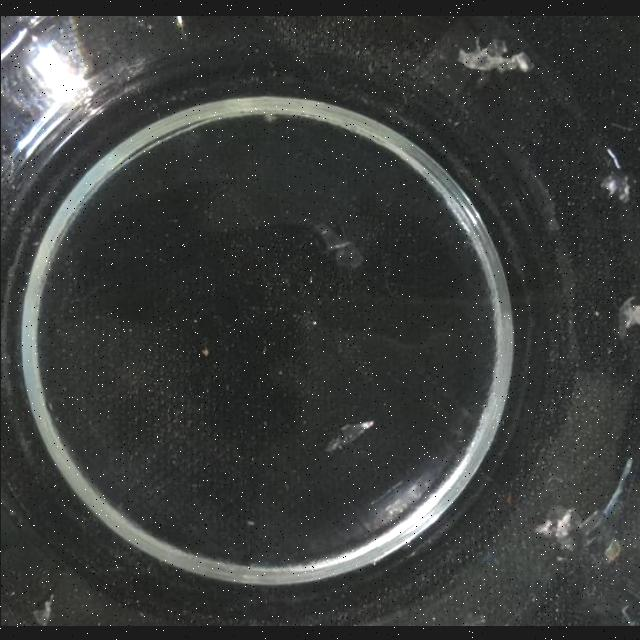Fibre: (456, 36, 530, 74), (310, 220, 362, 268), (532, 505, 580, 553), (599, 169, 631, 203), (616, 296, 640, 334), (31, 592, 53, 624), (458, 612, 497, 626)
Film: (324, 419, 374, 451)
microbeads: (200, 346, 208, 354), (308, 274, 312, 282)
